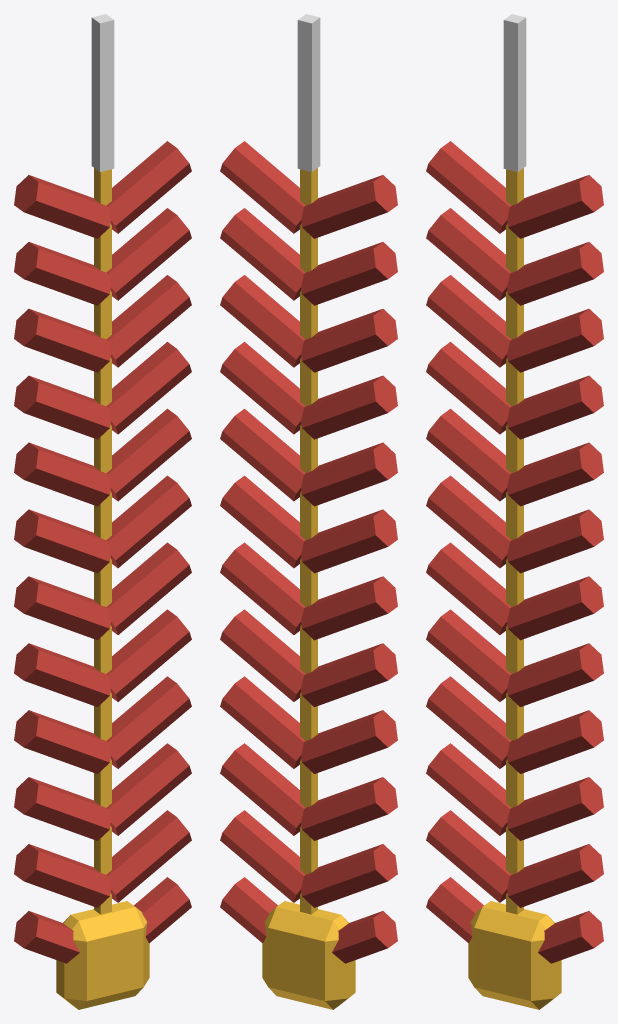
File: Firecrackers.fbx
The picture shows the model from 3 angles, left to right: view 1: azimuth 30°, elevation 25°; view 2: azimuth 150°, elevation 25°; view 3: azimuth 330°, elevation 25°; orthographic projection.
Visible parts, largest first — view 1: Firecrackers; view 2: Firecrackers; view 3: Firecrackers.
Part boxes in pixels (bbox=[...]): Firecrackers: bbox=[14, 14, 191, 1009]; Firecrackers: bbox=[220, 14, 397, 1009]; Firecrackers: bbox=[426, 14, 603, 1009].
Size of the model in its own units: 1.18 by 6.6 by 0.3.
Materials: 1 (1 with a texture image).
